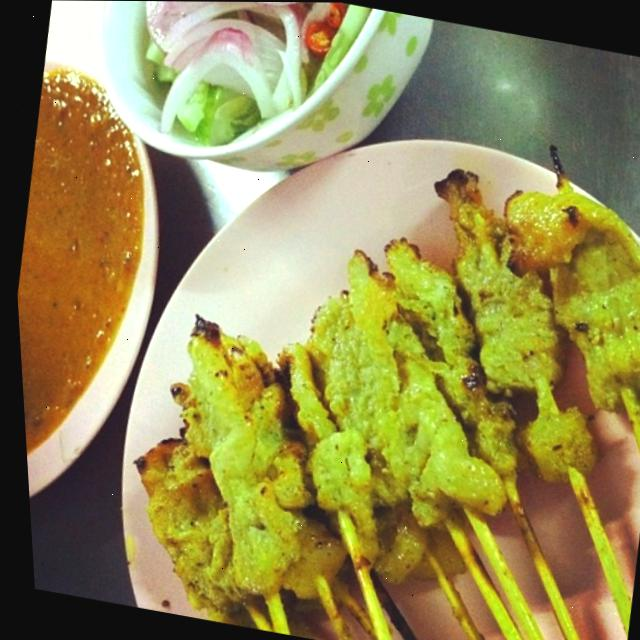牛肉菜式: (56, 83, 640, 640)
